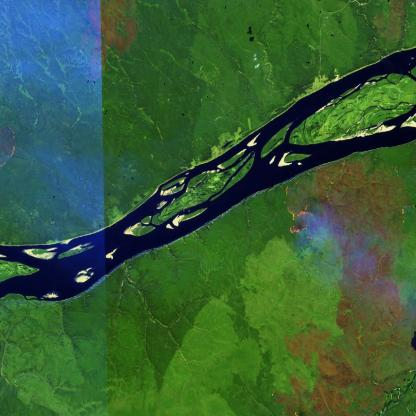fire: (280, 182, 312, 239), (0, 119, 24, 176)
